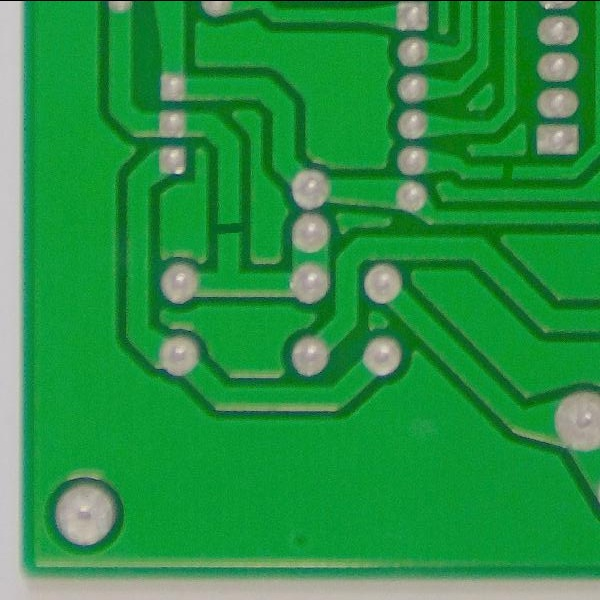open_circuit: (210, 215, 247, 241), (495, 158, 522, 184)
